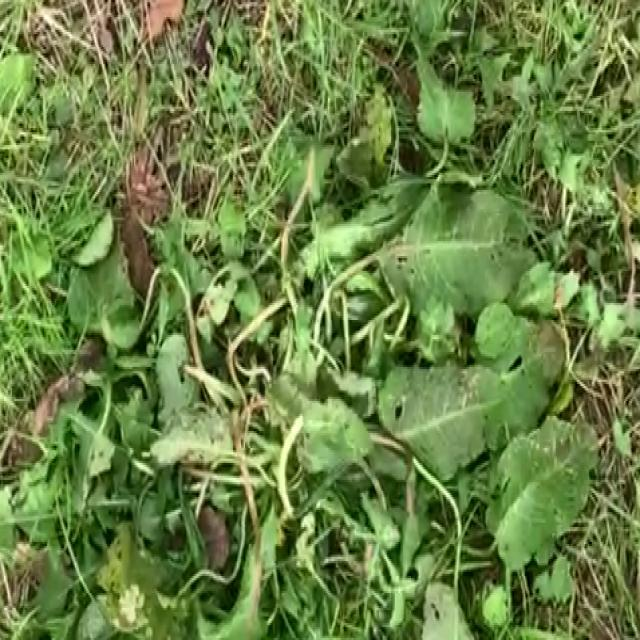organic waste: (34, 89, 610, 640)
